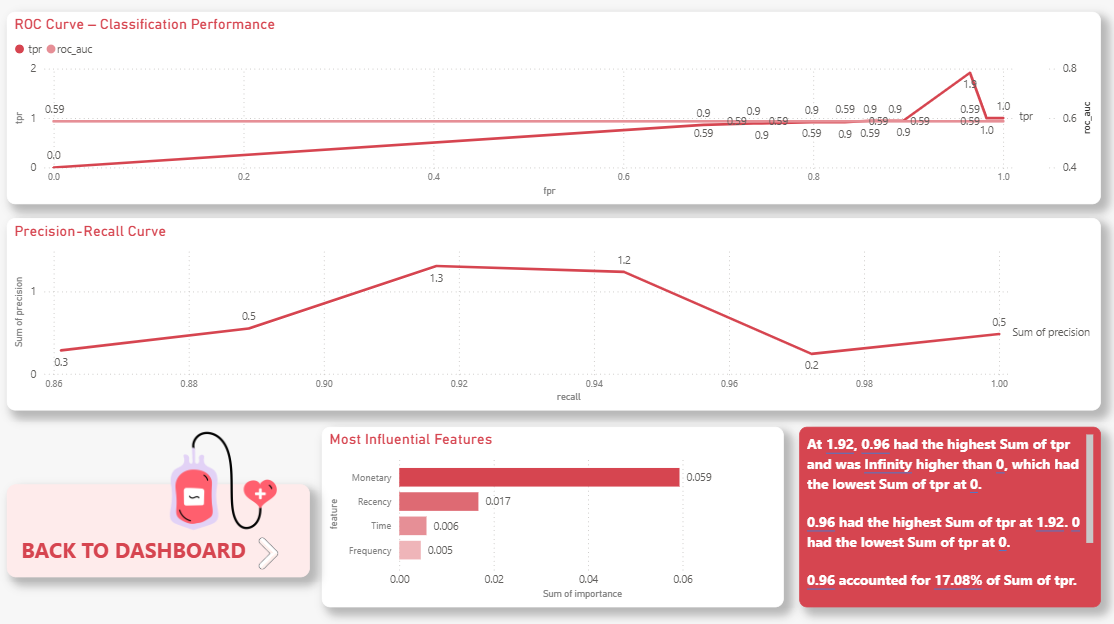

Layout of this report page (visuals, bound fields, positions):
{"tool":"powerbi","page":{"name":"Model performance","canvas":[1280,720],"ordinal":1},"visuals":[{"type":"lineChart","title":"ROC Curve – Classification Performance","fields":{"Category":["roc_points.fpr"],"Y":["Sum(roc_points.tpr)"],"Y2":["Sum(tableau_matrix.roc_auc)"]},"box":[10,15,1250,220],"z":0},{"type":"lineChart","title":"Precision-Recall Curve","fields":{"Category":["pr_points.recall"],"Y":["Sum(pr_points.precision)"]},"box":[10,251.7,1250,220],"z":1000},{"type":"barChart","title":"Most Influential Features","fields":{"Category":["feaure_imporance.feature"],"Y":["Sum(feaure_imporance.importance)"]},"box":[370,490,528.3,206.7],"z":2000},{"type":"textbox","box":[915,490,345,206.7],"z":3000},{"type":"textbox","box":[10,556,346,106],"z":4000},{"type":"textbox","box":[22,610,304,52],"z":5000},{"type":"image","box":[284,610,50,50],"z":6000},{"type":"image","box":[156.7,476.7,200,150],"z":7000}]}

Visuals, with their boxes in screenshot pixels (x1, y1, x2, y2), scaled from the page's 1280x720 canvas onto the 1114x624 screenshot:
"ROC Curve – Classification Performance" lineChart: [9, 13, 1097, 204]
"Precision-Recall Curve" lineChart: [9, 218, 1097, 409]
"Most Influential Features" barChart: [322, 425, 782, 604]
textbox: [796, 425, 1097, 604]
textbox: [9, 482, 310, 574]
textbox: [19, 529, 284, 574]
image: [247, 529, 291, 572]
image: [136, 413, 310, 543]
